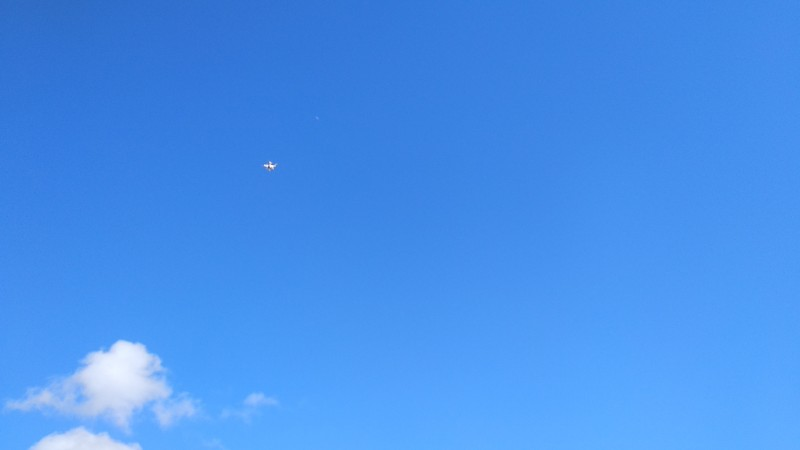drone: (261, 160, 278, 171)
